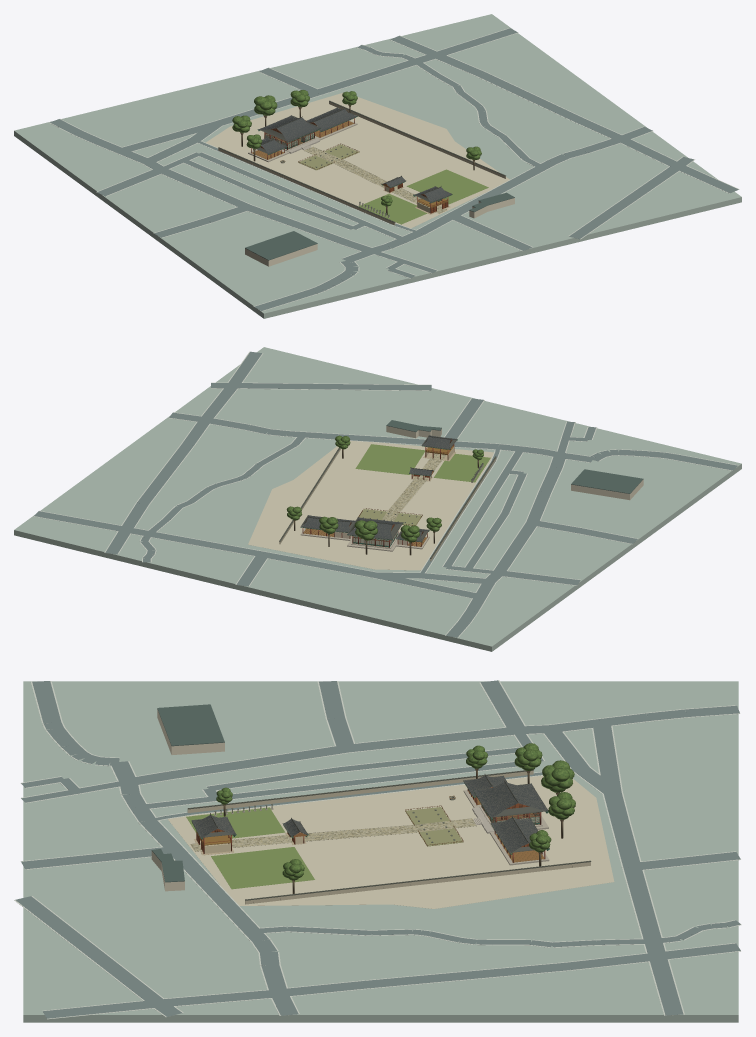
Rendered from geumseonggwan.glb.
3 views of the same model, one above another, from view 1: azimuth 30°, elevation 25°; view 2: azimuth 150°, elevation 25°; view 3: azimuth 270°, elevation 25° (orthographic). The views are drawn at different scales.
Parts seen in each view (by area): view 1: ground_base, ground_geumseonggwan_boundary, ground_floor_south_lawn.001, road_130622825_10, roof-cap_610255925, ground_floor_south_lawn, photo_stone_walkway, road_1431963670_1, road_330182901_4, road_130622795_4, road_729505164_3, road_800174812_3 (+8 smaller); view 2: ground_base, ground_geumseonggwan_boundary, ground_floor_south_lawn.001, road_130622825_10, roof-cap_610255925, ground_floor_south_lawn, road_1431963670_1, road_330182901_4, photo_stone_walkway, road_729505164_3, road_800174812_3, road_130622795_4 (+3 smaller); view 3: ground_base, ground_geumseonggwan_boundary, ground_floor_south_lawn.001, road_130622825_10, roof-cap_610255925, photo_stone_walkway, road_330182901_4, road_130622795_4, road_1431963670_1, hall-wall_precinct_east, ground_floor_south_lawn, road_800174812_3 (+33 smaller).
Boxes of the visible parts, left/top/right/bottom form: ground_base: left=14, top=14, right=741, bottom=318; ground_geumseonggwan_boundary: left=205, top=93, right=509, bottom=228; ground_floor_south_lawn.001: left=406, top=169, right=488, bottom=204; road_130622825_10: left=569, top=165, right=678, bottom=239; roof-cap_610255925: left=245, top=231, right=317, bottom=260; ground_floor_south_lawn: left=359, top=193, right=427, bottom=224; photo_stone_walkway: left=304, top=147, right=447, bottom=213; road_1431963670_1: left=196, top=152, right=367, bottom=223; road_330182901_4: left=477, top=72, right=583, bottom=121; road_130622795_4: left=448, top=167, right=546, bottom=216; road_729505164_3: left=317, top=59, right=419, bottom=94; road_800174812_3: left=157, top=169, right=251, bottom=207; ground_base: left=14, top=347, right=741, bottom=651; ground_geumseonggwan_boundary: left=248, top=440, right=493, bottom=570; ground_floor_south_lawn.001: left=355, top=444, right=425, bottom=474; road_130622825_10: left=233, top=383, right=431, bottom=390; roof-cap_610255925: left=571, top=469, right=643, bottom=493; ground_floor_south_lawn: left=434, top=453, right=490, bottom=482; road_1431963670_1: left=443, top=471, right=509, bottom=567; road_330182901_4: left=137, top=444, right=193, bottom=504; photo_stone_walkway: left=382, top=453, right=445, bottom=521; road_729505164_3: left=147, top=531, right=265, bottom=556; road_800174812_3: left=493, top=522, right=538, bottom=573; road_130622795_4: left=303, top=432, right=425, bottom=444; ground_base: left=23, top=681, right=738, bottom=1022; ground_geumseonggwan_boundary: left=168, top=775, right=614, bottom=908; ground_floor_south_lawn.001: left=211, top=847, right=314, bottom=889; road_130622825_10: left=15, top=896, right=166, bottom=1004; roof-cap_610255925: left=157, top=704, right=224, bottom=746; photo_stone_walkway: left=190, top=818, right=476, bottom=851; road_330182901_4: left=362, top=962, right=570, bottom=988; road_130622795_4: left=172, top=848, right=260, bottom=932; road_1431963670_1: left=214, top=762, right=517, bottom=798; hall-wall_precinct_east: left=245, top=862, right=590, bottom=904; ground_floor_south_lawn: left=186, top=807, right=285, bottom=838; road_800174812_3: left=345, top=727, right=519, bottom=752.
Size of the model in its own units: 287 by 22.25 by 261.
